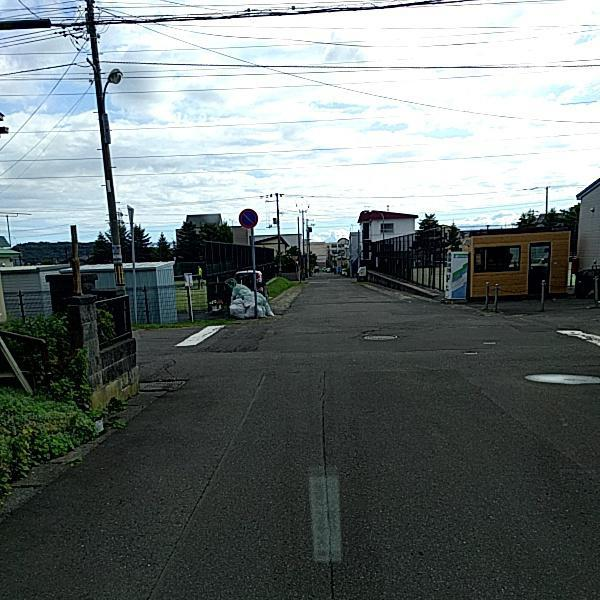D50: (350, 329, 403, 345)
